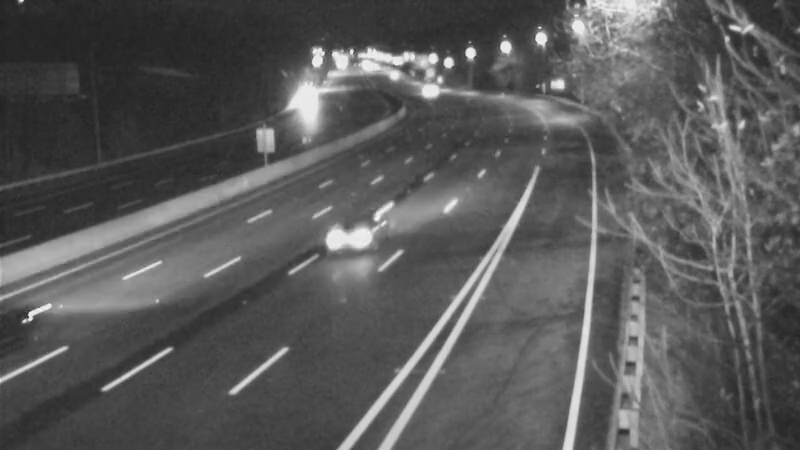vehicle: (304, 197, 384, 277), (402, 68, 452, 118)
